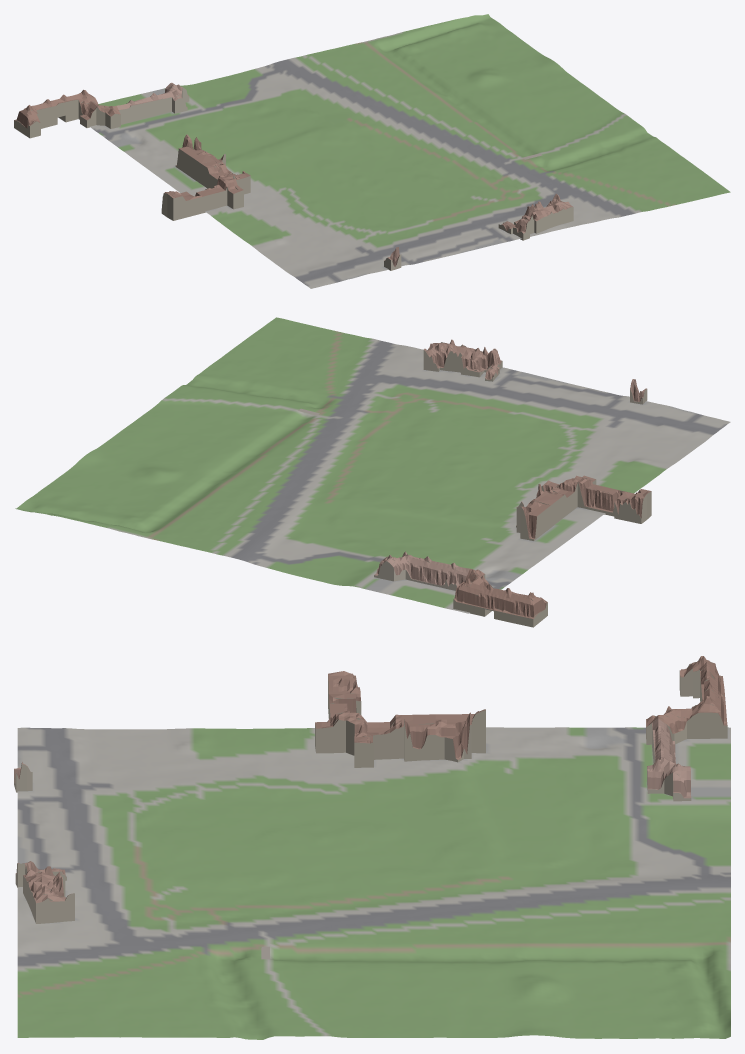
The picture shows the model from 3 angles, top to bottom: view 1: azimuth 30°, elevation 25°; view 2: azimuth 150°, elevation 25°; view 3: azimuth 270°, elevation 25°; orthographic projection. The views are drawn at different scales.
Visible parts, largest first — view 1: ground, b:way/26194150, b:way/98523434, b:way/206376728, b:way/139285981; view 2: ground, b:way/26194150, b:way/98523434, b:way/206376728, b:way/139285981; view 3: ground, b:way/26194150, b:way/98523434, b:way/206376728, b:way/139285981.
Boxes of the visible parts, box(x1,y1,x2,y2) form: ground: box(78, 14, 730, 288); b:way/26194150: box(161, 134, 250, 220); b:way/98523434: box(14, 89, 120, 138); b:way/206376728: box(498, 193, 573, 240); b:way/139285981: box(117, 82, 189, 124); ground: box(15, 317, 730, 613); b:way/26194150: box(516, 475, 651, 540); b:way/98523434: box(453, 568, 547, 627); b:way/206376728: box(423, 339, 502, 381); b:way/139285981: box(374, 551, 469, 590); ground: box(17, 727, 730, 1039); b:way/26194150: box(315, 671, 485, 767); b:way/98523434: box(646, 656, 727, 744); b:way/206376728: box(15, 861, 74, 923); b:way/139285981: box(647, 718, 691, 801).
Bounding box in the file's own units: 284 × 21.1 × 251.
